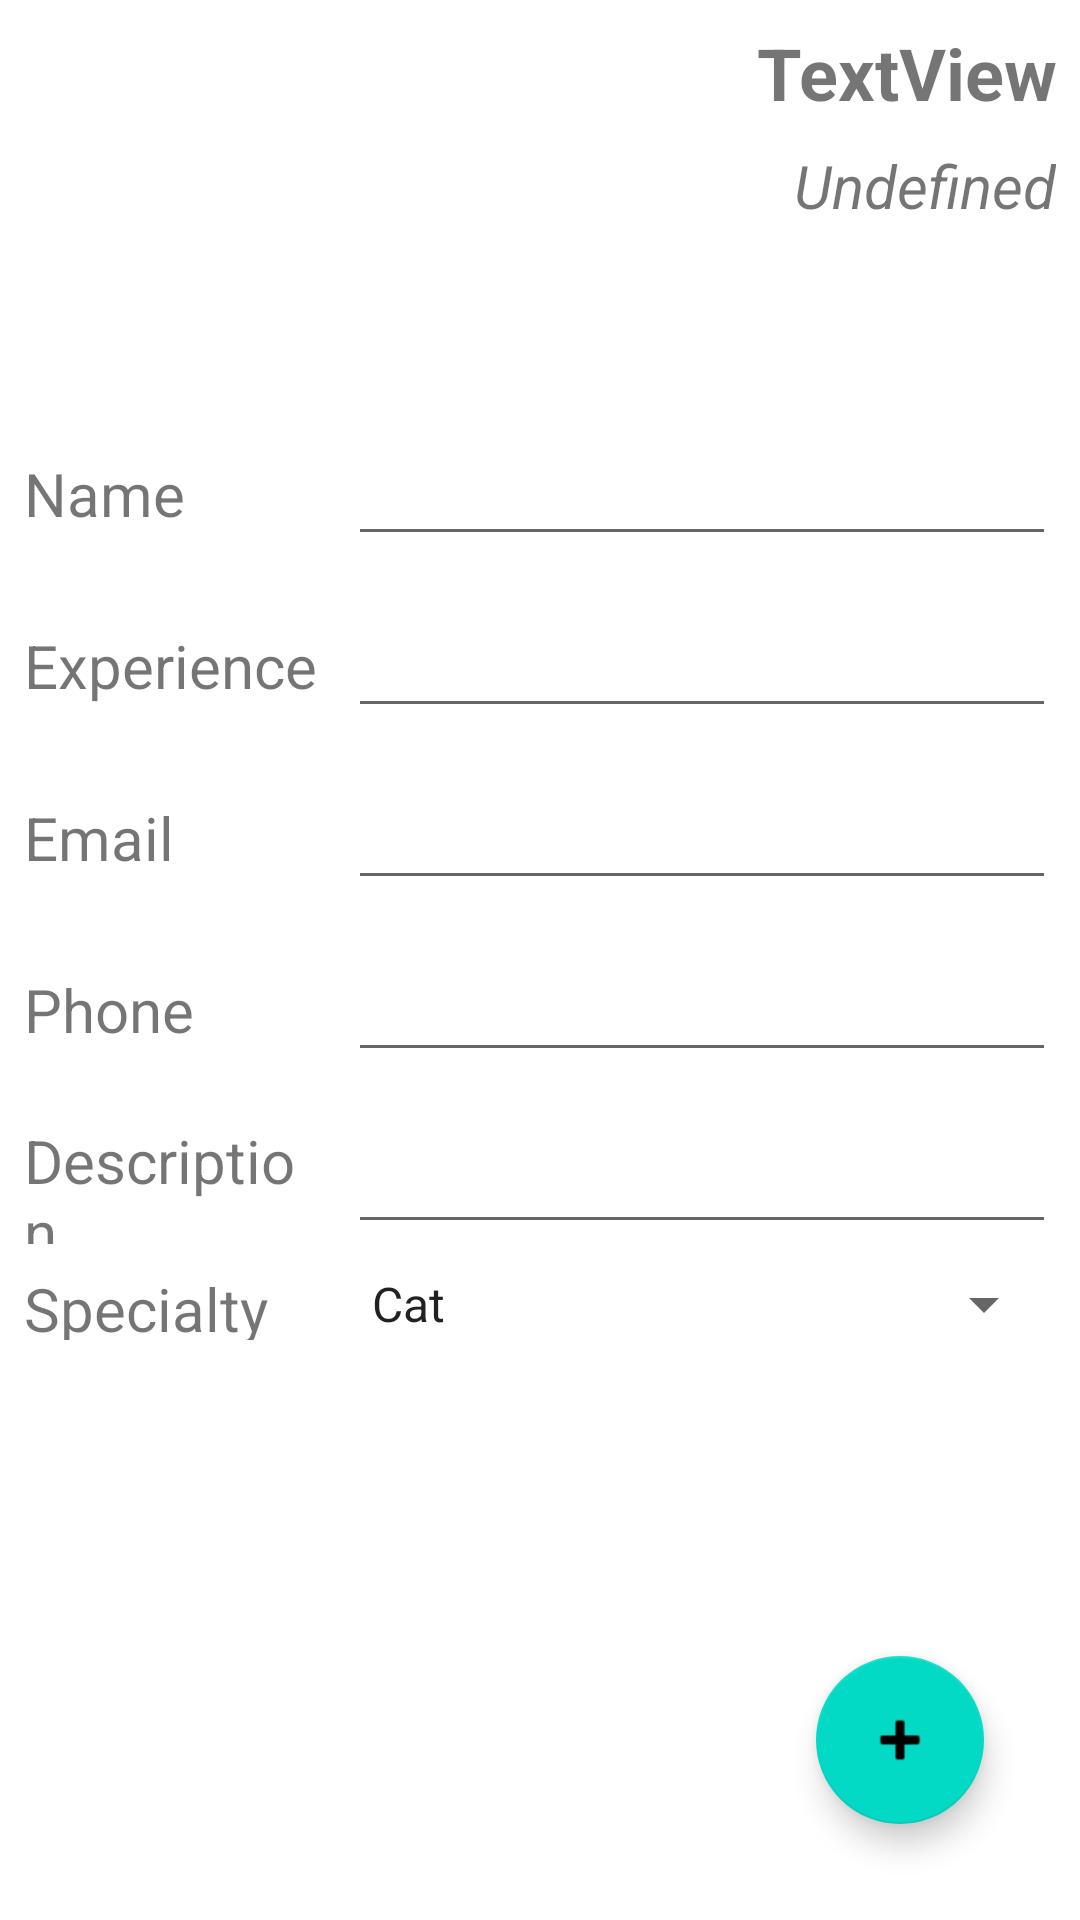

Named icons in this screenshot (1080 × 1920) and their bounding boxes, (x1, y1, x2, y2):
add: (816, 1656, 984, 1824)
